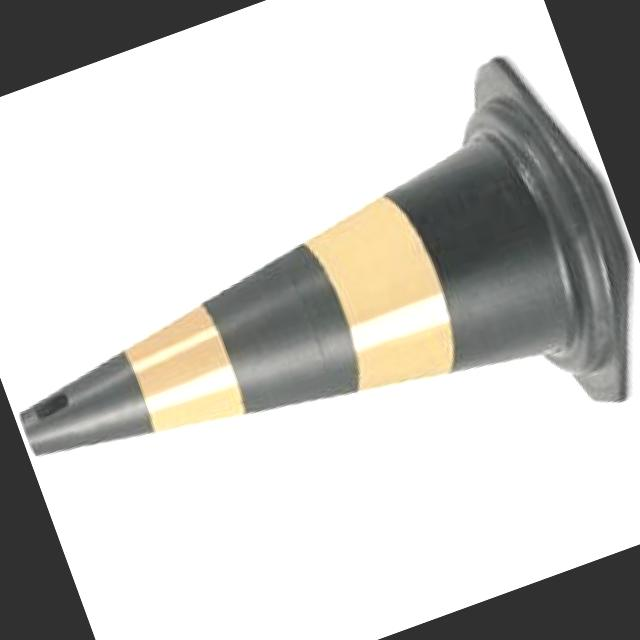cone: (0, 16, 640, 594)
